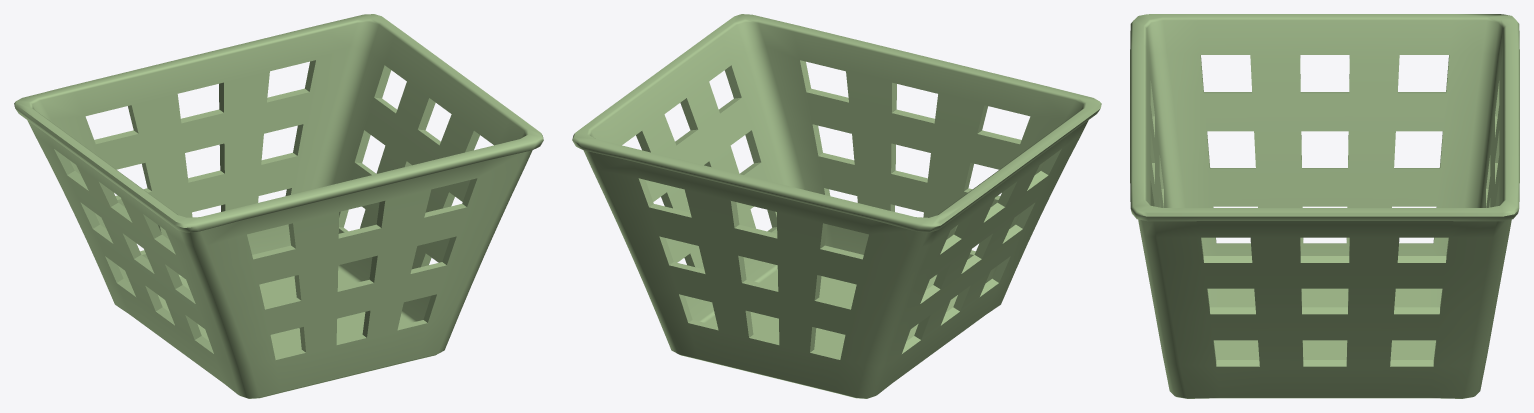
Rendered from Laundry_basket_2.glb.
3 views of the same model, side by side, from view 1: azimuth 30°, elevation 25°; view 2: azimuth 150°, elevation 25°; view 3: azimuth 270°, elevation 25° (orthographic). The views are drawn at different scales.
Parts seen in each view (by area): view 1: Laundry_basket_2; view 2: Laundry_basket_2; view 3: Laundry_basket_2.
Part boxes in pixels (x1,y1,x2,y2): Laundry_basket_2: (14, 14, 543, 398); Laundry_basket_2: (572, 14, 1101, 398); Laundry_basket_2: (1130, 14, 1519, 398).
Size of the model in its own units: 0.4129 by 0.2236 by 0.3398.
1 material, 1 textured.
